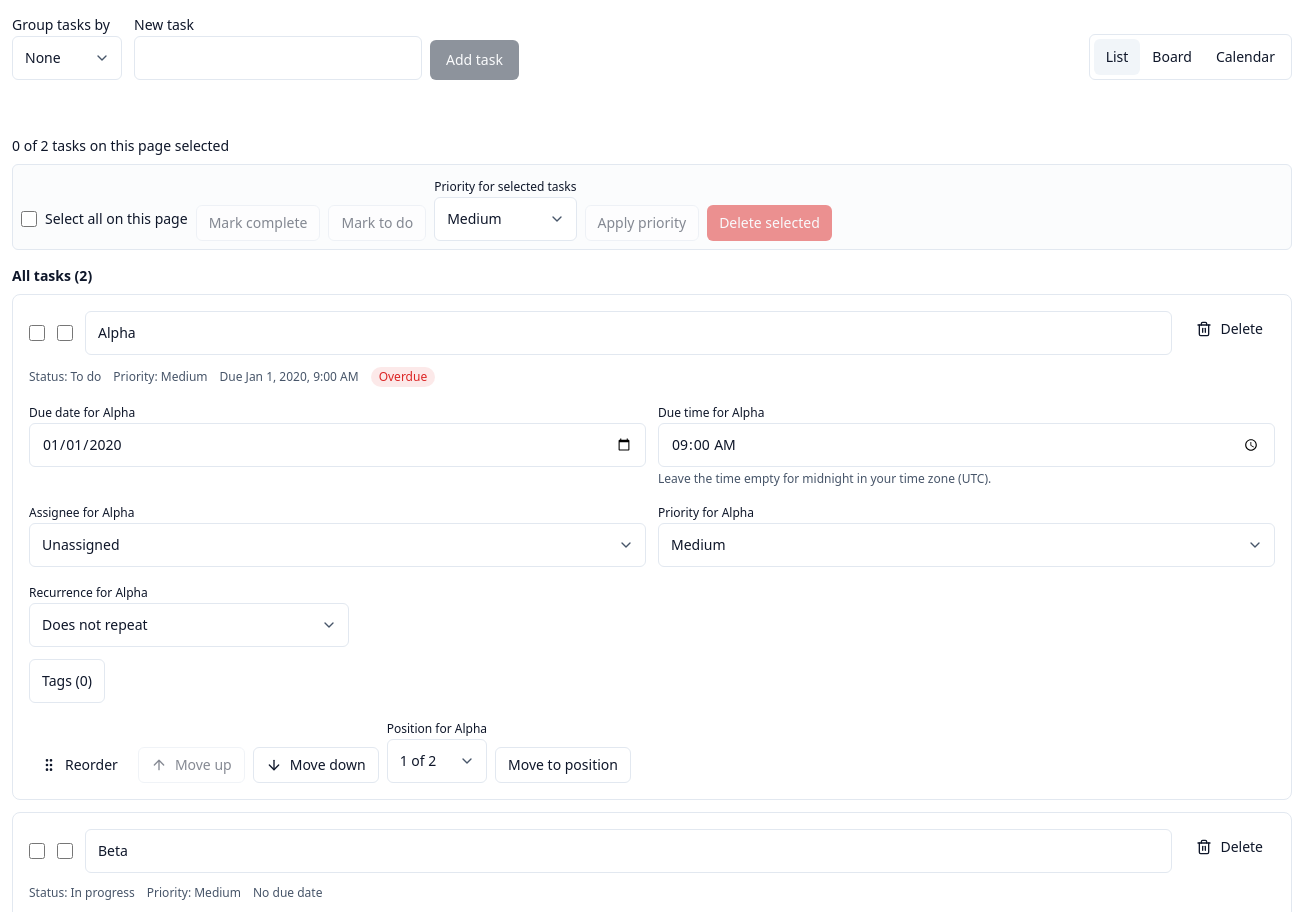
Test case: TaskListView › reports a partly skipped bulk change instead of claiming every task changed
The width and height of the screenshot is (1292, 912).
Click the checkbox named "Select all tasks on this page".
click(29, 219)  # box left=21, top=211, right=37, bottom=227
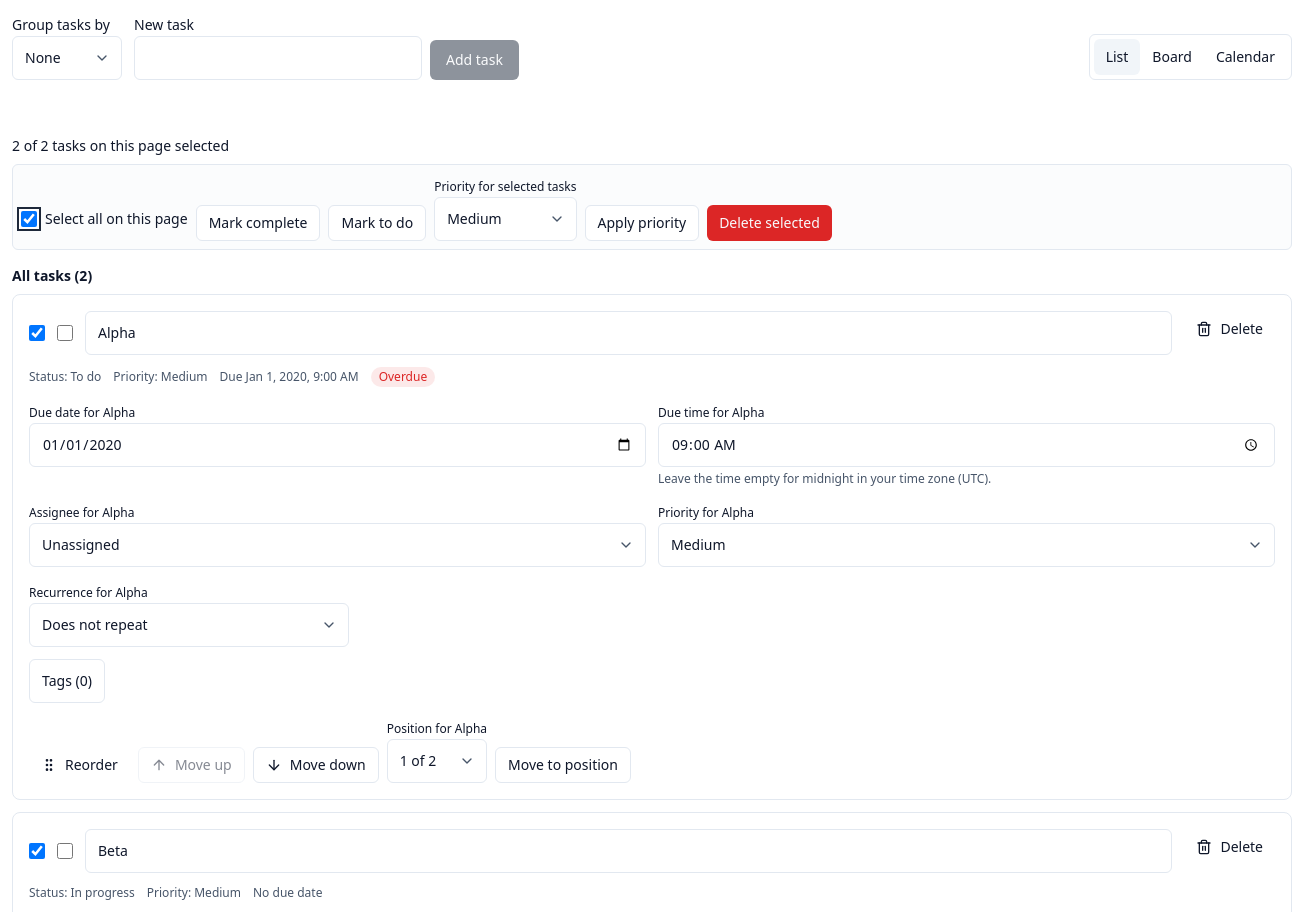
Click the button "Mark complete".
click(258, 223)  # box left=196, top=205, right=320, bottom=241
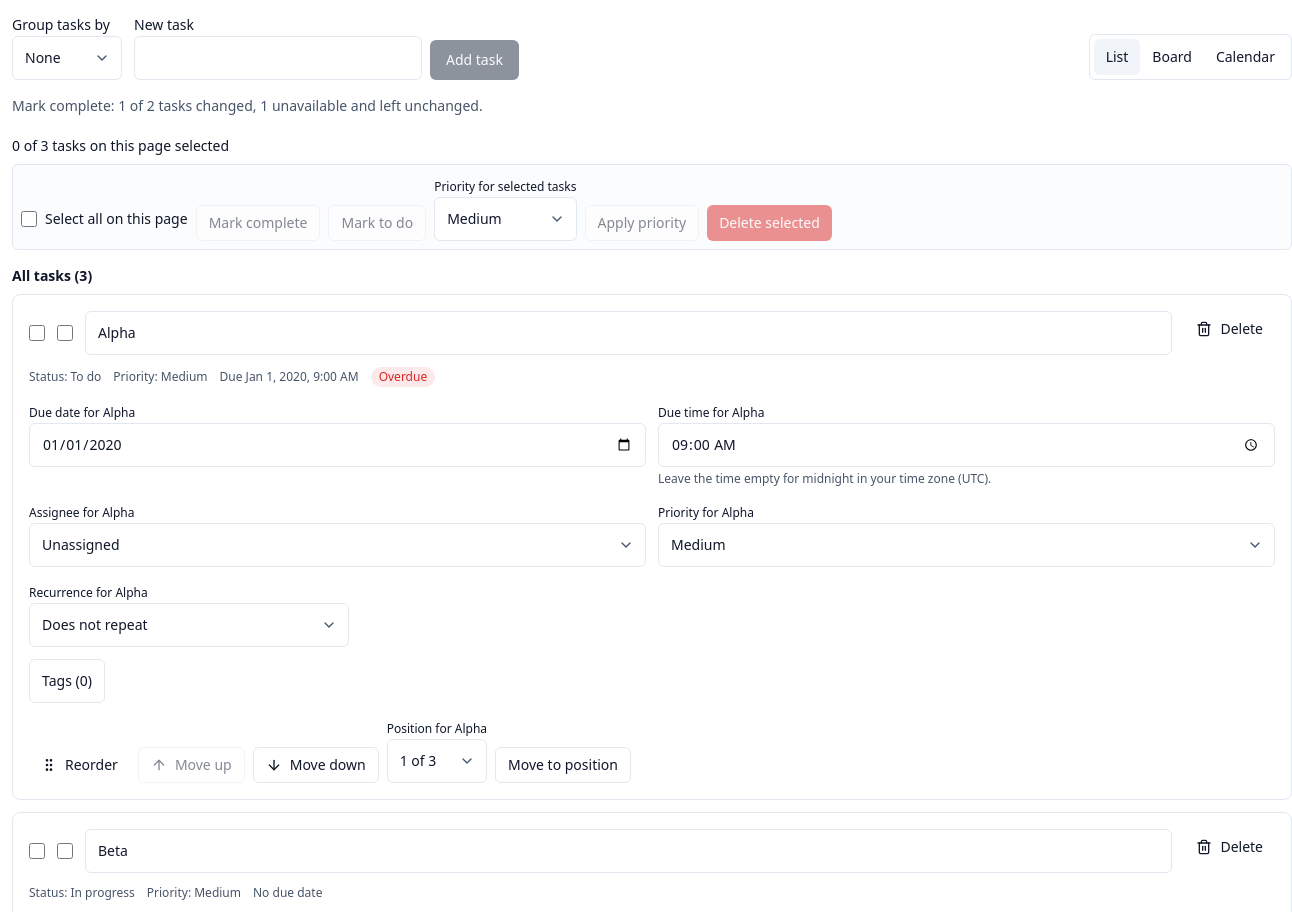
Expected: the text "Mark complete: 1 of 2 tasks changed, 1 unavailable and left unchanged." is shown, left=12, top=96, right=483, bottom=115
